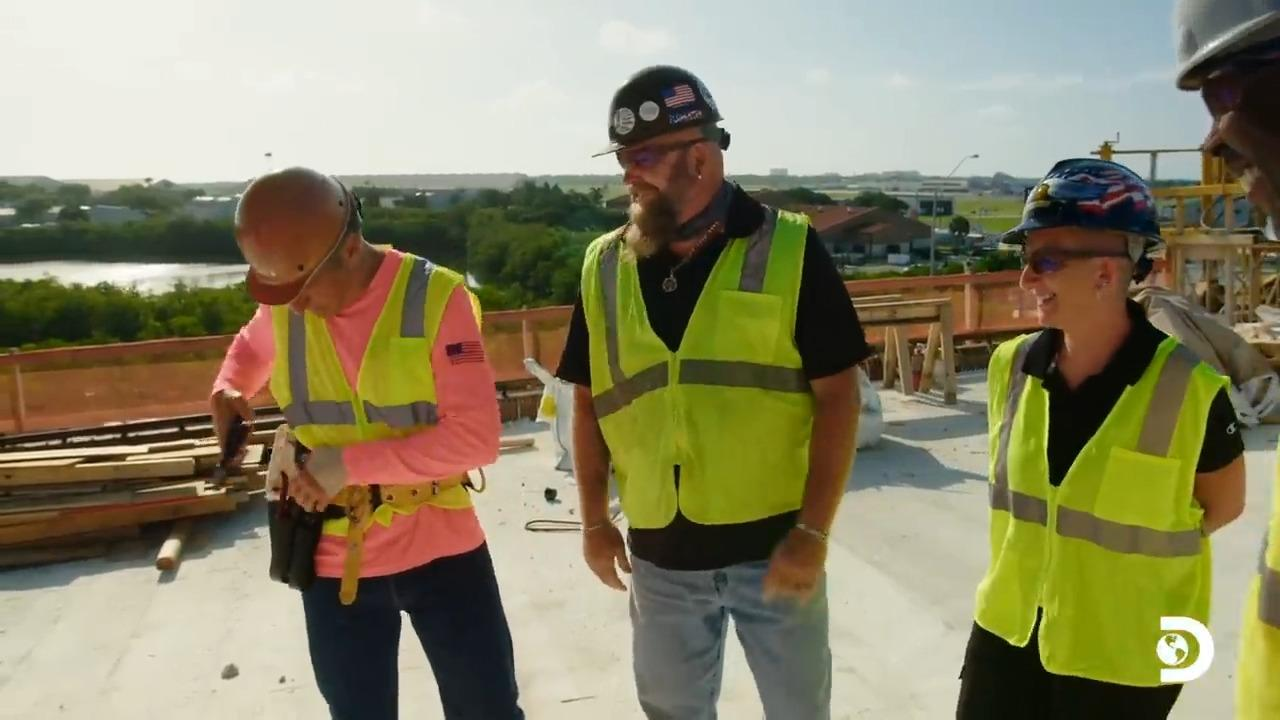Gloves: (286, 453, 346, 519), (204, 395, 254, 453)
Helmet: (233, 166, 360, 305), (1000, 157, 1163, 247), (593, 64, 727, 157), (1172, 0, 1279, 91)
Person: (553, 64, 874, 719), (180, 166, 497, 720), (954, 157, 1247, 719), (1172, 0, 1279, 719)
Safety Vest: (988, 340, 1196, 650), (604, 218, 815, 516), (286, 327, 473, 513)
bare-arms: (751, 524, 838, 604), (572, 513, 635, 584)
